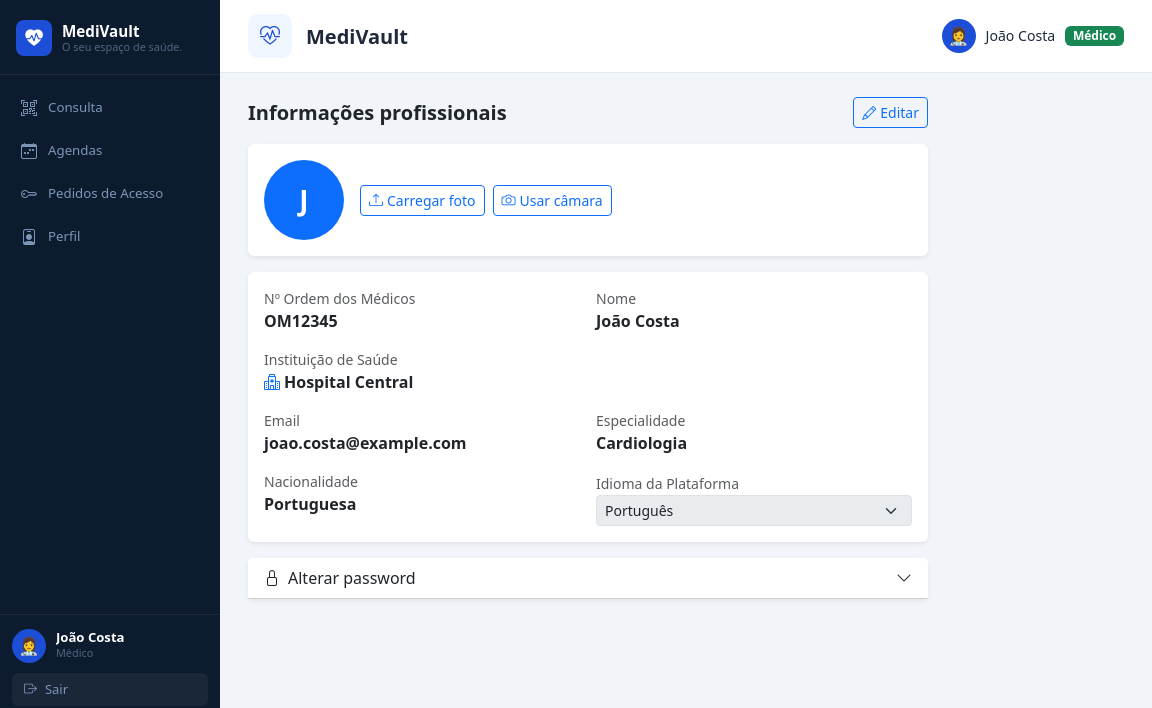
Scenario: DoctorProfilePage › does not log out when the current password is wrong
Expected: the text "Hospital Central" is shown, x1=264 y1=370 x2=413 y2=394
Click the text "Alterar password" at [340, 578], box x1=264 y1=566 x2=416 y2=590
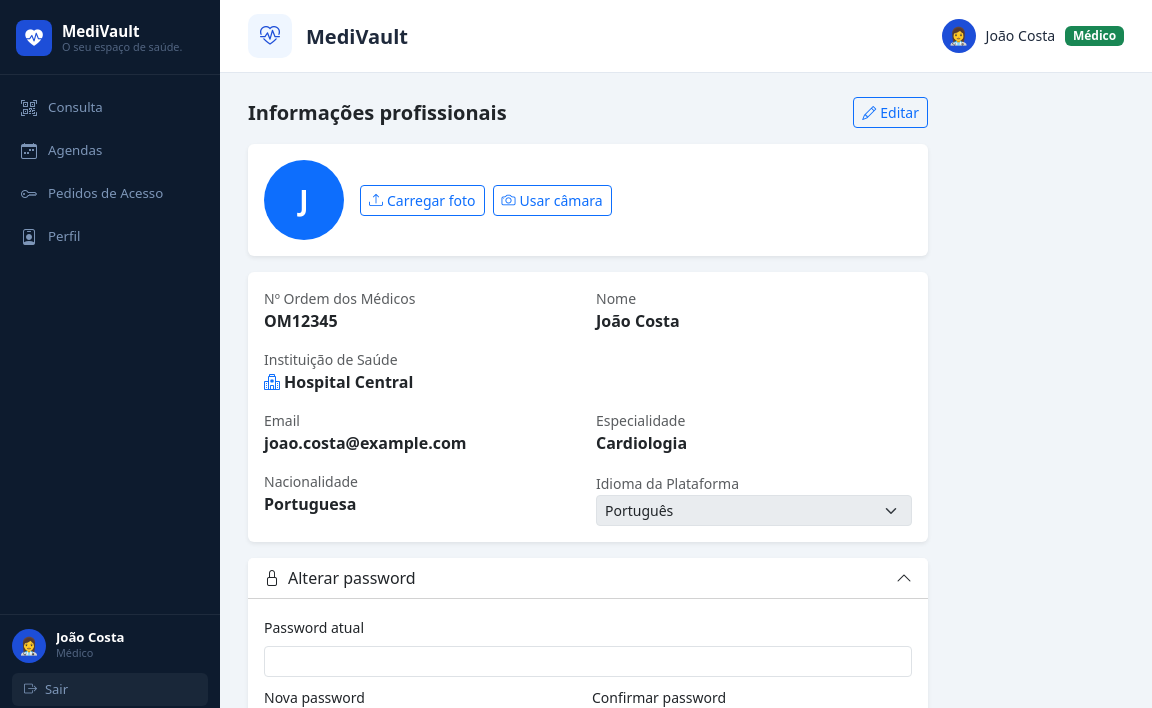
Type "wrong-password" into the password field below "Password atual" at [588, 662], box x1=264 y1=646 x2=912 y2=677
(page scrolled)
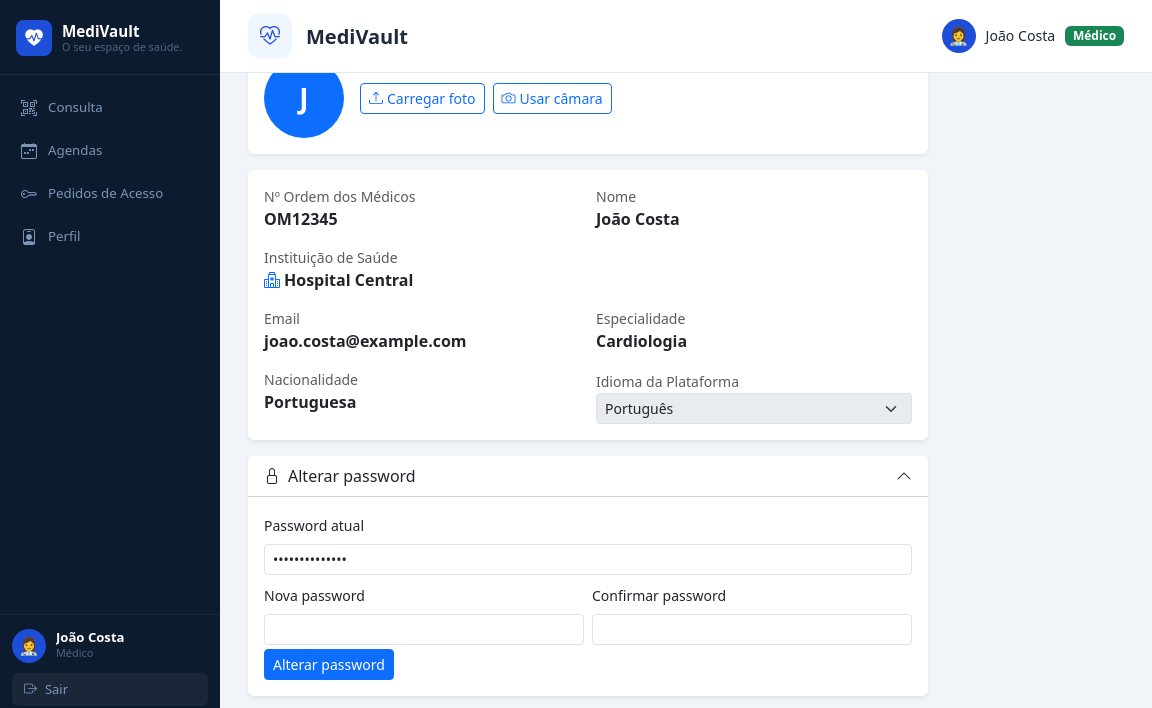
Type "new-password" into the password field below "Nova password" at [424, 630], box x1=264 y1=614 x2=584 y2=645
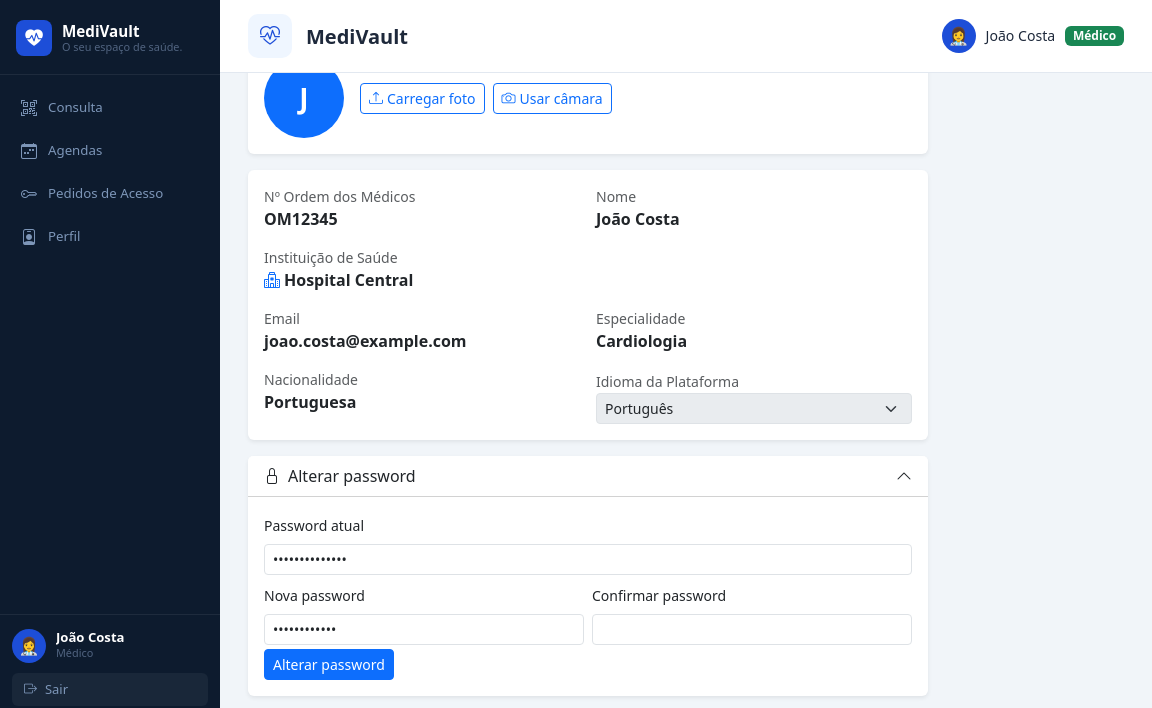
Type "new-password" into the password field below "Confirmar password" at [752, 630], box x1=592 y1=614 x2=912 y2=645
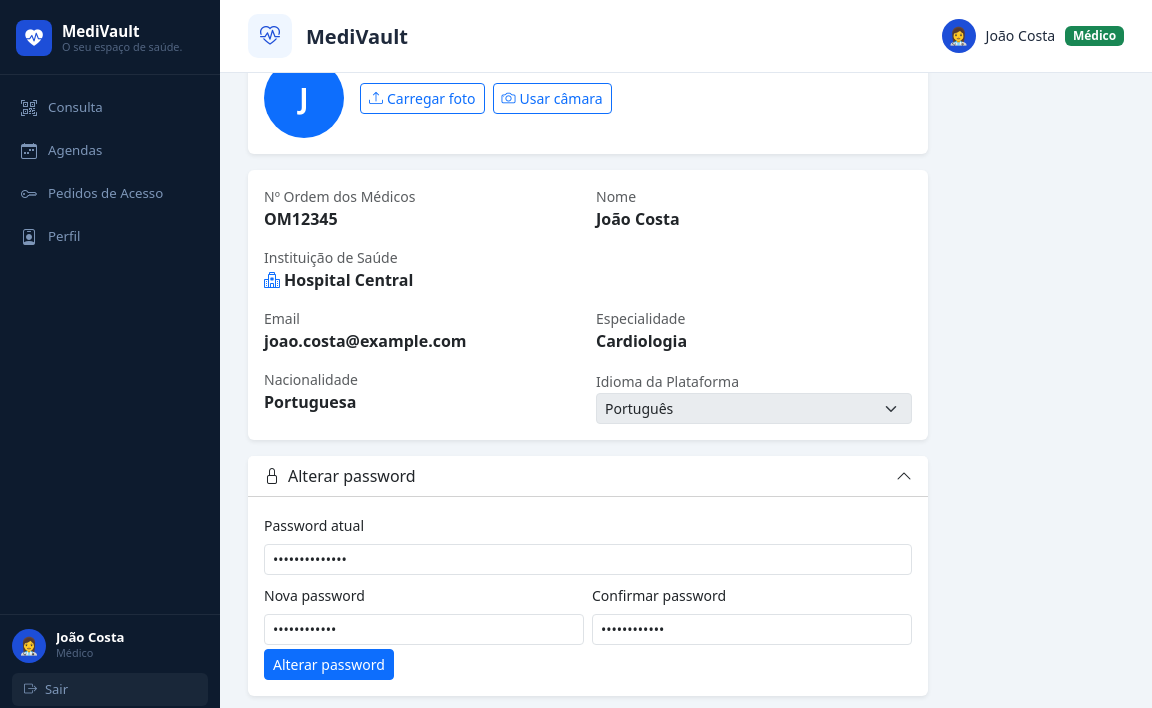
Click the button "Alterar password" at [329, 664], box x1=264 y1=649 x2=394 y2=680
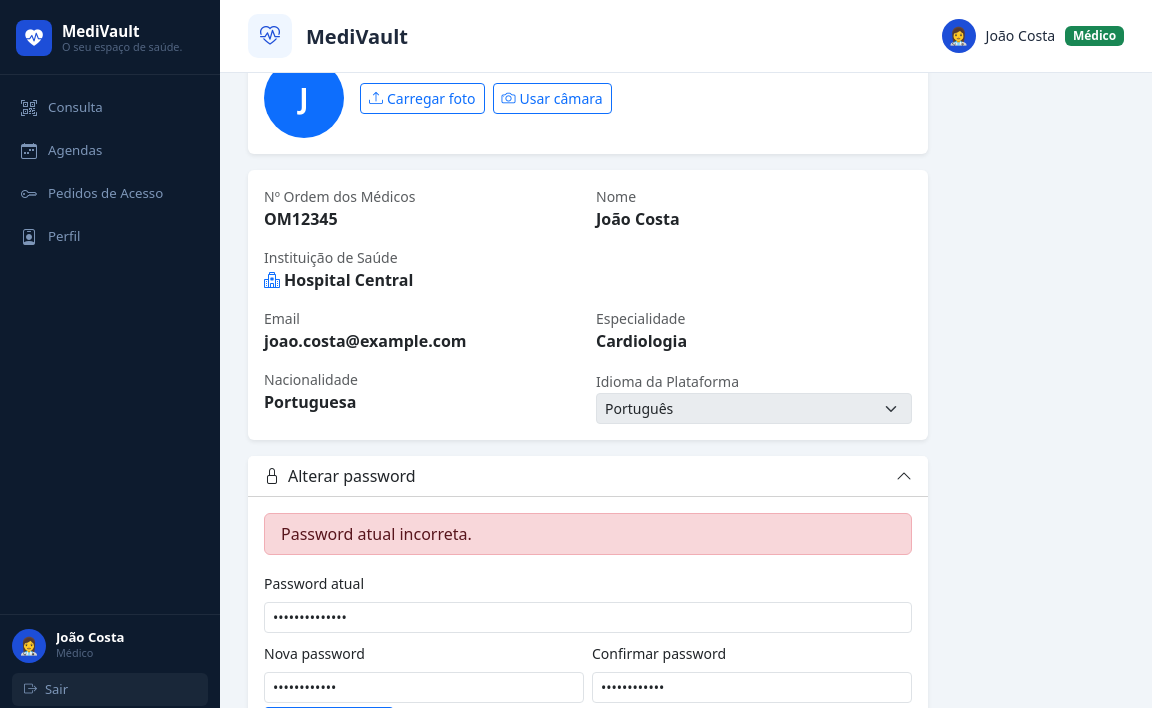
Expected: the text "Password atual incorreta." is shown, x1=264 y1=513 x2=912 y2=555
